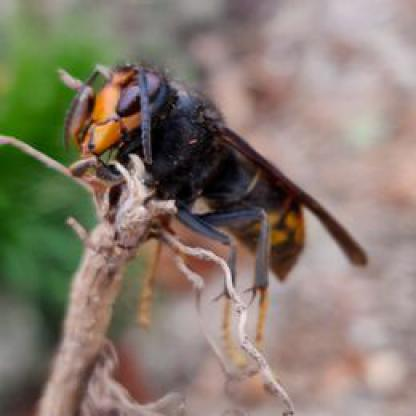Asian Hornet: (66, 49, 372, 370)
